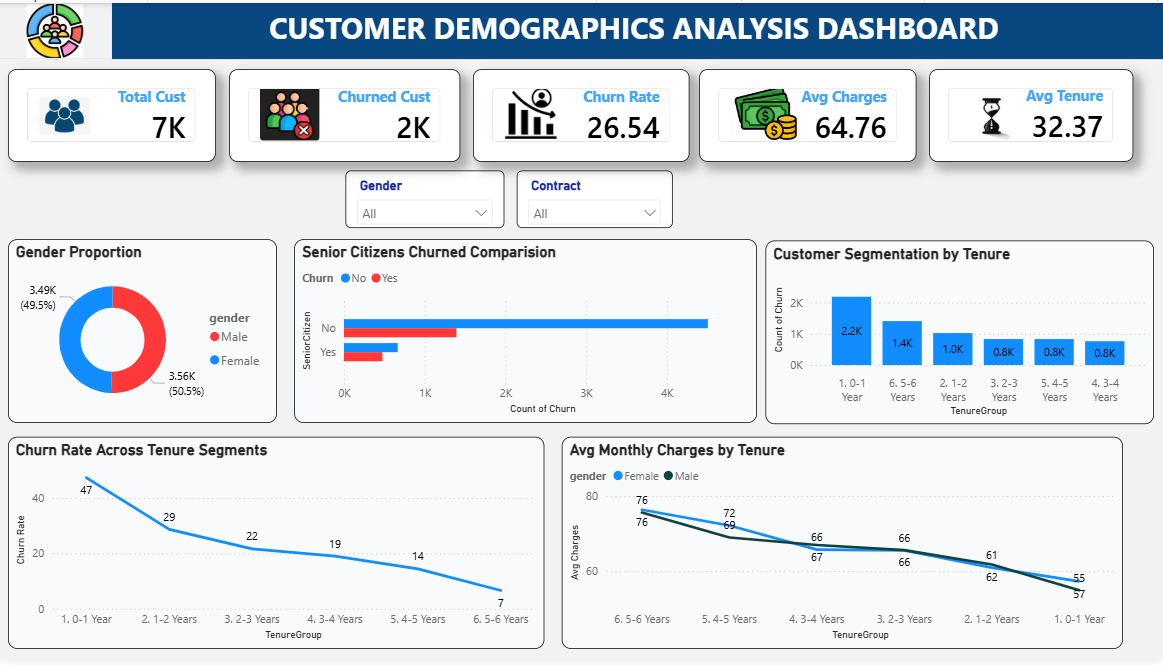

The dashboard page shown, as its layout file describes it:
{"tool":"powerbi","page":{"name":"Page 1","canvas":[1280,720],"ordinal":3},"visuals":[{"type":"donutChart","title":"Gender Proportion","fields":{"Category":["CustomerChurn.gender"],"Y":["CountNonNull(CustomerChurn.Churn)"]},"box":[11,215.4,295,245.6],"z":0},{"type":"clusteredBarChart","title":"Senior Citizens Churned Comparision","fields":{"Category":["CustomerChurn.SeniorCitizen"],"Series":["CustomerChurn.Churn"],"Y":["CountNonNull(CustomerChurn.Churn)"]},"box":[805.5,205.8,440.5,255.2],"z":1000},{"type":"clusteredColumnChart","title":" Customer Segmentation by Tenure","fields":{"Category":["CustomerChurn.TenureGroup"],"Y":["CountNonNull(CustomerChurn.Churn)"]},"box":[355.4,258,426.8,201.7],"z":2000},{"type":"lineChart","title":"Churn Rate Across Tenure Segments","fields":{"Category":["CustomerChurn.TenureGroup"],"Y":["CustomerChurn.Churn Rate"]},"box":[11.4,475.7,588.6,232.9],"z":3000},{"type":"lineChart","title":"Avg Monthly Charges by Tenure","fields":{"Category":["CustomerChurn.TenureGroup"],"Series":["CustomerChurn.gender"],"Y":["CustomerChurn.Avg Monthly Charges"]},"box":[618.6,475.7,615.7,232.9],"z":4000},{"type":"slicer","fields":{"Values":["CustomerChurn.gender"]},"box":[381.5,183.9,174.3,63.1],"z":5000},{"type":"slicer","fields":{"Values":["CustomerChurn.Contract"]},"box":[569.5,183.9,171.5,63.1],"z":6000},{"type":"textbox","box":[105.7,0,1174.6,61.7],"z":7000},{"type":"cardVisual","fields":{"Data":["CustomerChurn.Total Customers"]},"box":[11,72.7,227.8,101.5],"z":8000},{"type":"cardVisual","fields":{"Data":["CustomerChurn.Churned Customers"]},"box":[253.9,72.7,253.9,101.5],"z":9000},{"type":"cardVisual","fields":{"Data":["CustomerChurn.Churn Rate"]},"box":[521.4,72.7,237.4,101.5],"z":10000},{"type":"cardVisual","fields":{"Data":["CustomerChurn.Avg Monthly Charges"]},"box":[769.7,72.4,235.3,101.3],"z":11000},{"type":"cardVisual","fields":{"Data":["CustomerChurn.Avg Tenure"]},"box":[1022.3,72.7,223.7,101.5],"z":12000},{"type":"image","box":[0,0,105.7,61.7],"z":13000}]}

Visuals, with their boxes in screenshot pixels (x1, y1, x2, y2), scaled from the page's 1280x720 canvas onto the 1163x665 screenshot:
"Gender Proportion" donutChart: select_region(10, 199, 278, 426)
"Senior Citizens Churned Comparision" clusteredBarChart: select_region(732, 190, 1132, 426)
" Customer Segmentation by Tenure" clusteredColumnChart: select_region(323, 238, 711, 425)
"Churn Rate Across Tenure Segments" lineChart: select_region(10, 439, 545, 654)
"Avg Monthly Charges by Tenure" lineChart: select_region(562, 439, 1121, 654)
slicer - CustomerChurn.gender: select_region(347, 170, 505, 228)
slicer - CustomerChurn.Contract: select_region(517, 170, 673, 228)
textbox: select_region(96, 0, 1162, 57)
cardVisual - CustomerChurn.Total Customers: select_region(10, 67, 217, 161)
cardVisual - CustomerChurn.Churned Customers: select_region(231, 67, 461, 161)
cardVisual - CustomerChurn.Churn Rate: select_region(474, 67, 689, 161)
cardVisual - CustomerChurn.Avg Monthly Charges: select_region(699, 67, 913, 160)
cardVisual - CustomerChurn.Avg Tenure: select_region(929, 67, 1132, 161)
image: select_region(0, 0, 96, 57)
